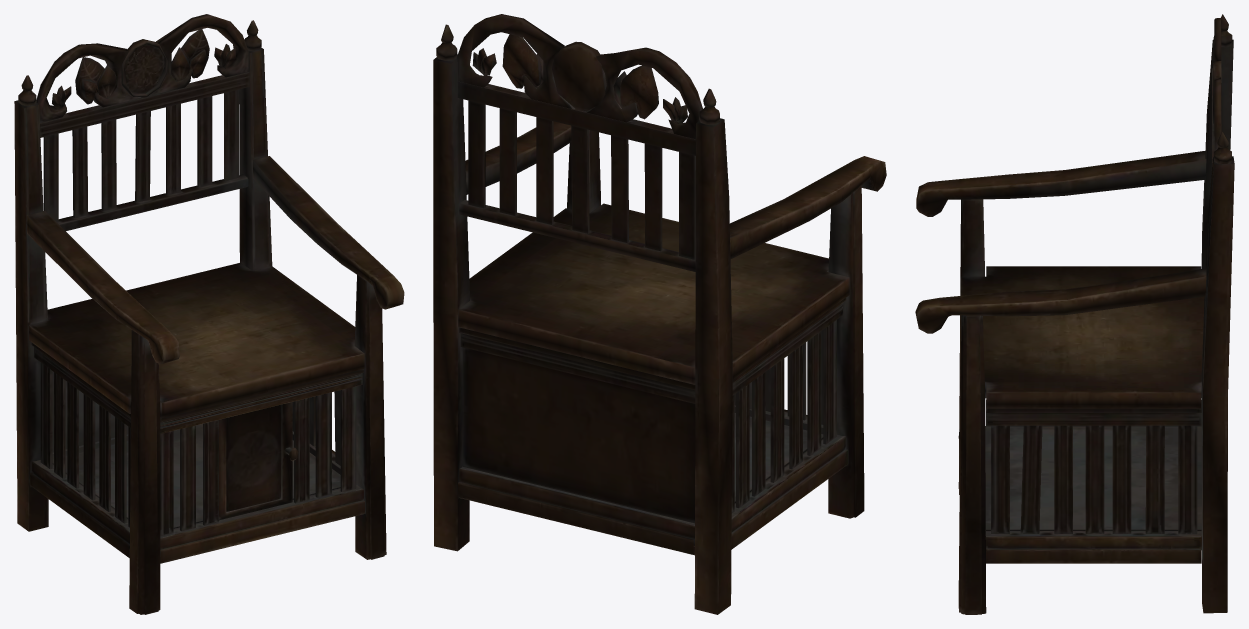
File: gallinera_chair.glb
The picture shows the model from 3 angles, left to right: view 1: azimuth 30°, elevation 25°; view 2: azimuth 150°, elevation 25°; view 3: azimuth 270°, elevation 25°; orthographic projection. The views are drawn at different scales.
Visible parts, largest first — view 1: gallinera_chair; view 2: gallinera_chair; view 3: gallinera_chair.
Boxes of the visible parts, bbox=[...] form: gallinera_chair: bbox=[14, 14, 404, 614]; gallinera_chair: bbox=[433, 14, 886, 614]; gallinera_chair: bbox=[915, 14, 1234, 614].
Bounding box in the file's own units: 0.58 × 1.03 × 0.6014.
Materials: 1 (1 with a texture image).
